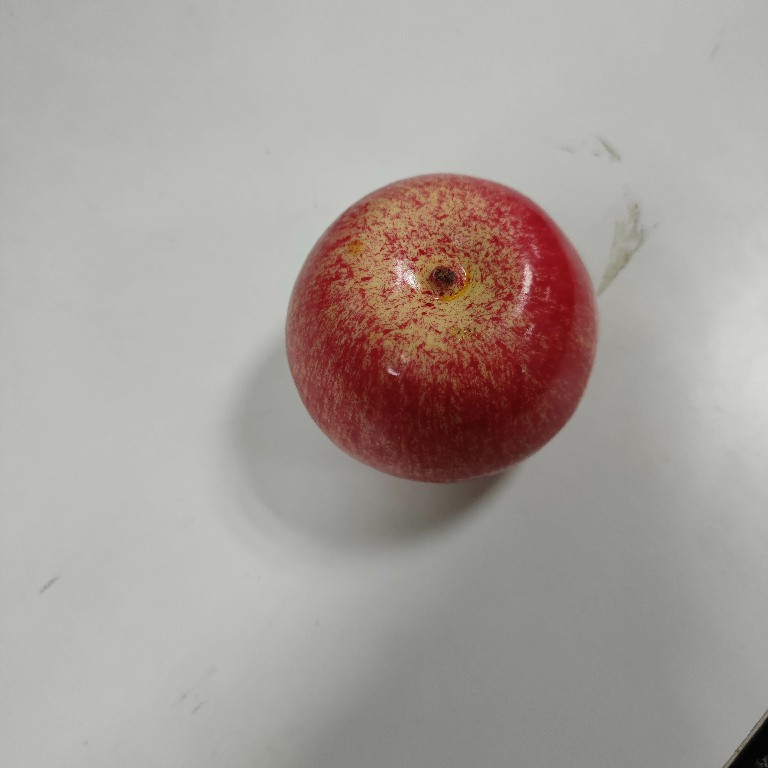fruit_apple: (272, 165, 619, 491)
